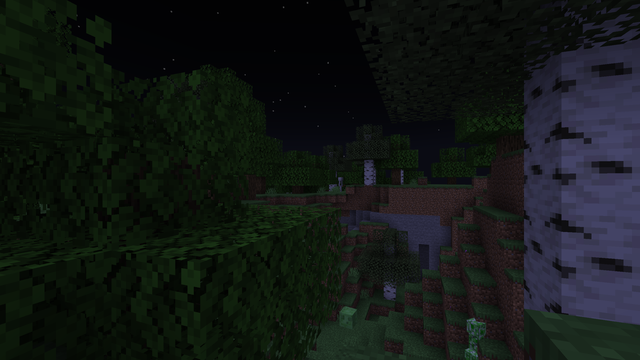creepers: (466, 314, 485, 358)
slimes: (339, 305, 356, 328)
squelettes: (338, 177, 343, 191)
